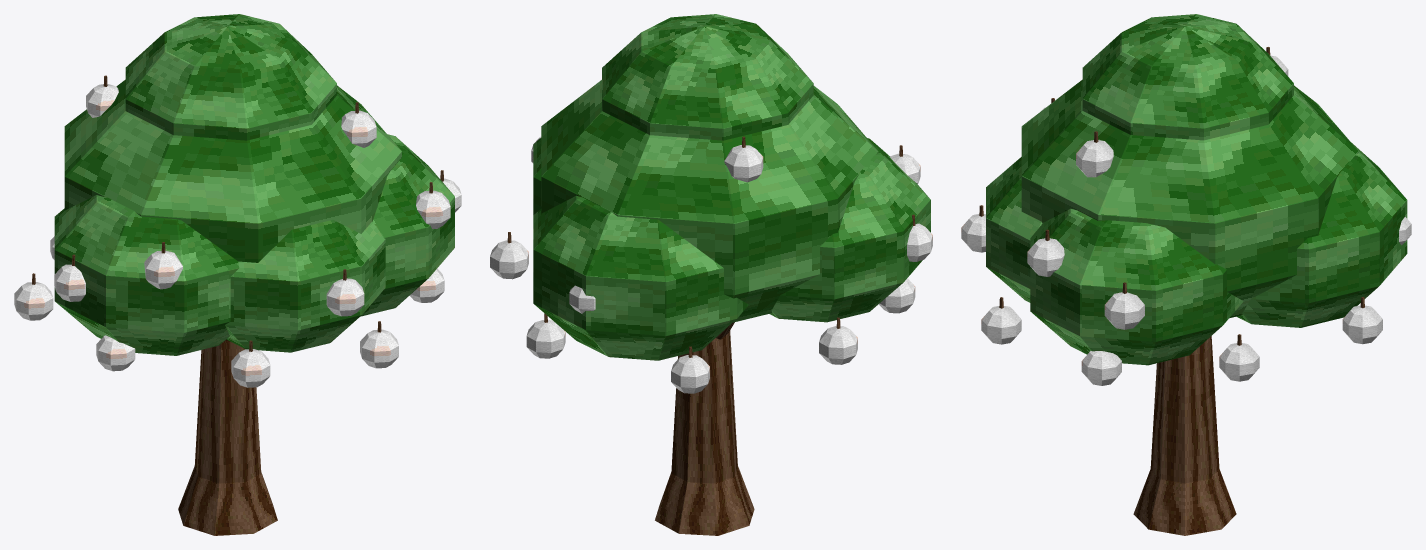
The model's file is arvore_frutifera_base_tintavel.glb.
The picture shows the model from 3 angles, left to right: view 1: azimuth 30°, elevation 25°; view 2: azimuth 150°, elevation 25°; view 3: azimuth 270°, elevation 25°; orthographic projection.
Parts seen in each view (by area): view 1: Tree_Body, Fruits; view 2: Tree_Body, Fruits; view 3: Tree_Body, Fruits.
Part boxes in pixels (left/top/right/bottom): Tree_Body: left=32, top=14, right=454, bottom=535; Fruits: left=14, top=84, right=461, bottom=387; Tree_Body: left=507, top=14, right=930, bottom=535; Fruits: left=490, top=136, right=932, bottom=393; Tree_Body: left=979, top=14, right=1407, bottom=535; Fruits: left=961, top=55, right=1411, bottom=385.
Size of the model in its own units: 3.61 by 4.21 by 3.52.
1 material, 1 textured.
